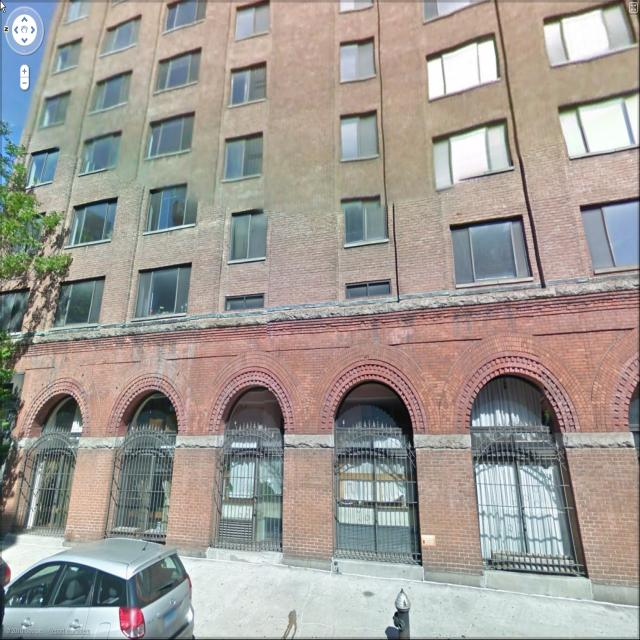b_1: (0, 1, 640, 552)
